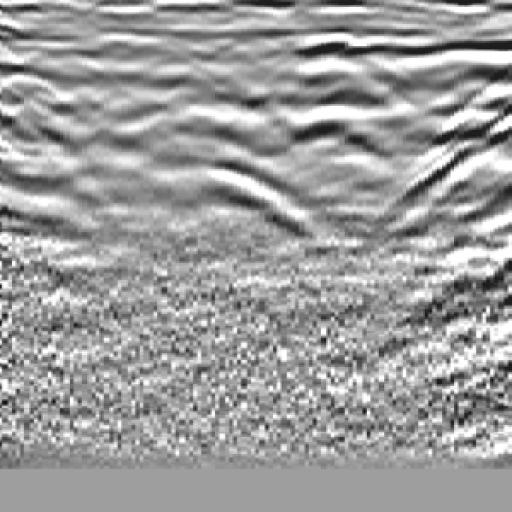metalic: (156, 48, 324, 295)
nonmetalic: (369, 43, 512, 287)
